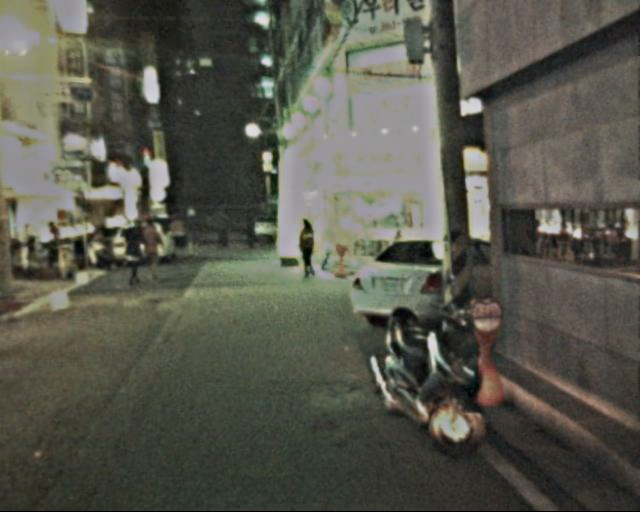person: (134, 218, 166, 284), (293, 216, 322, 279), (119, 223, 146, 285), (207, 206, 232, 253), (181, 205, 202, 255), (168, 208, 188, 256), (237, 214, 255, 251)
